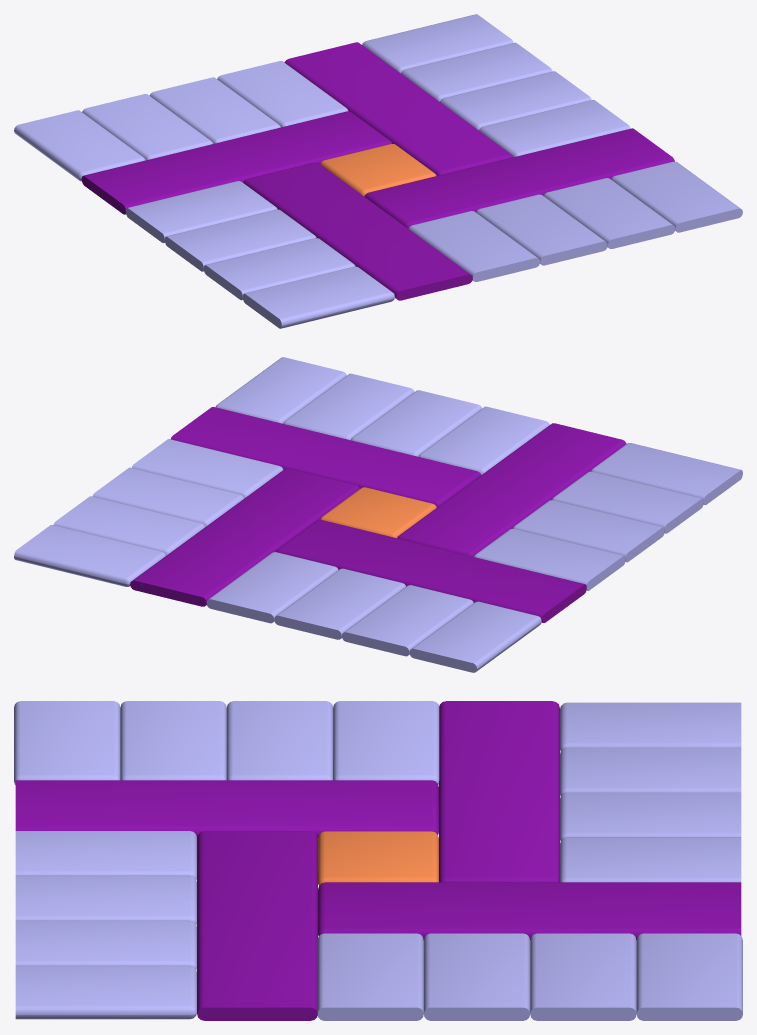
Rendered from RoomGround2.fbx.
3 renders of one model, top to bottom at view 1: azimuth 30°, elevation 25°; view 2: azimuth 150°, elevation 25°; view 3: azimuth 270°, elevation 25°, orthographic. The views are drawn at different scales.
Parts seen in each view (by area): view 1: RoomGround2; view 2: RoomGround2; view 3: RoomGround2.
Boxes of the visible parts, <box> form: RoomGround2: <box>14,14,742,328</box>; RoomGround2: <box>14,357,742,672</box>; RoomGround2: <box>14,701,742,1020</box>.
Size of the model in its own units: 6.03 by 6.03 by 0.12.
